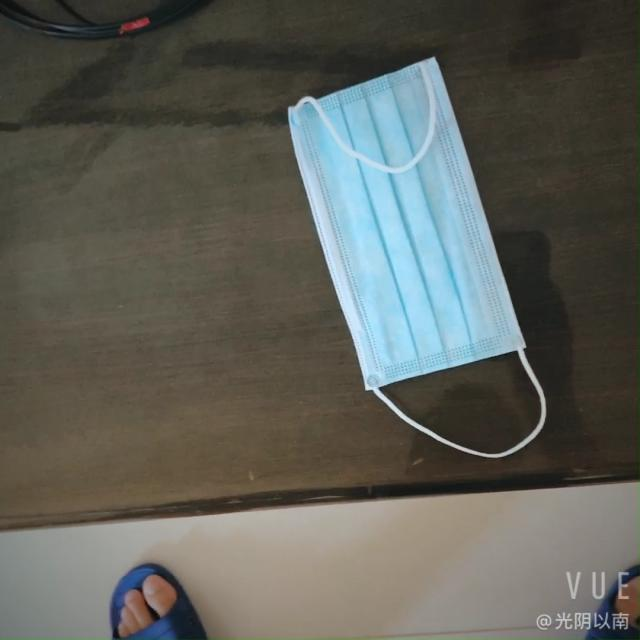face mask: (297, 39, 547, 413)
